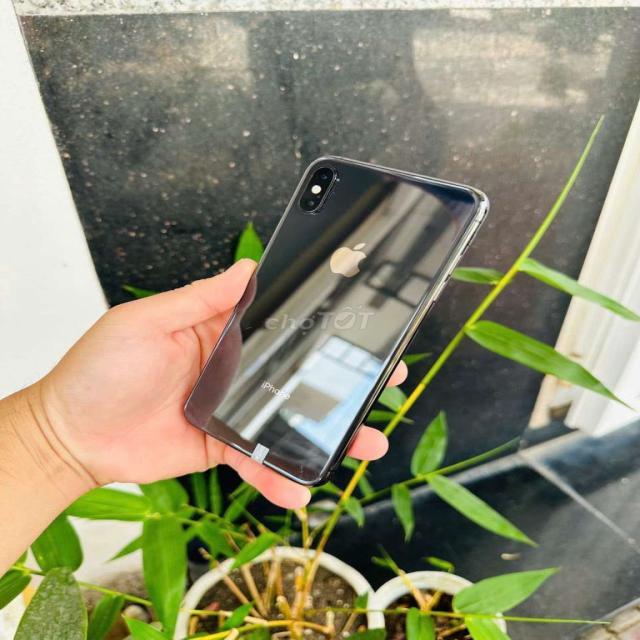scratch: (288, 460, 318, 483), (240, 321, 264, 338), (330, 188, 338, 201), (334, 172, 343, 183), (310, 174, 314, 179)
